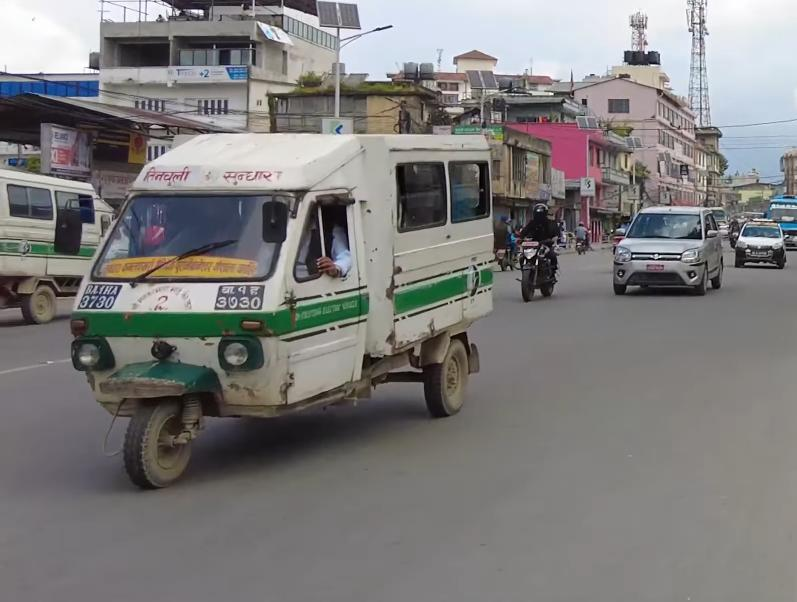bike: (515, 228, 561, 302)
car: (605, 205, 725, 301)
taxi: (734, 215, 790, 269)
tempo: (57, 121, 523, 506), (0, 160, 135, 329)
